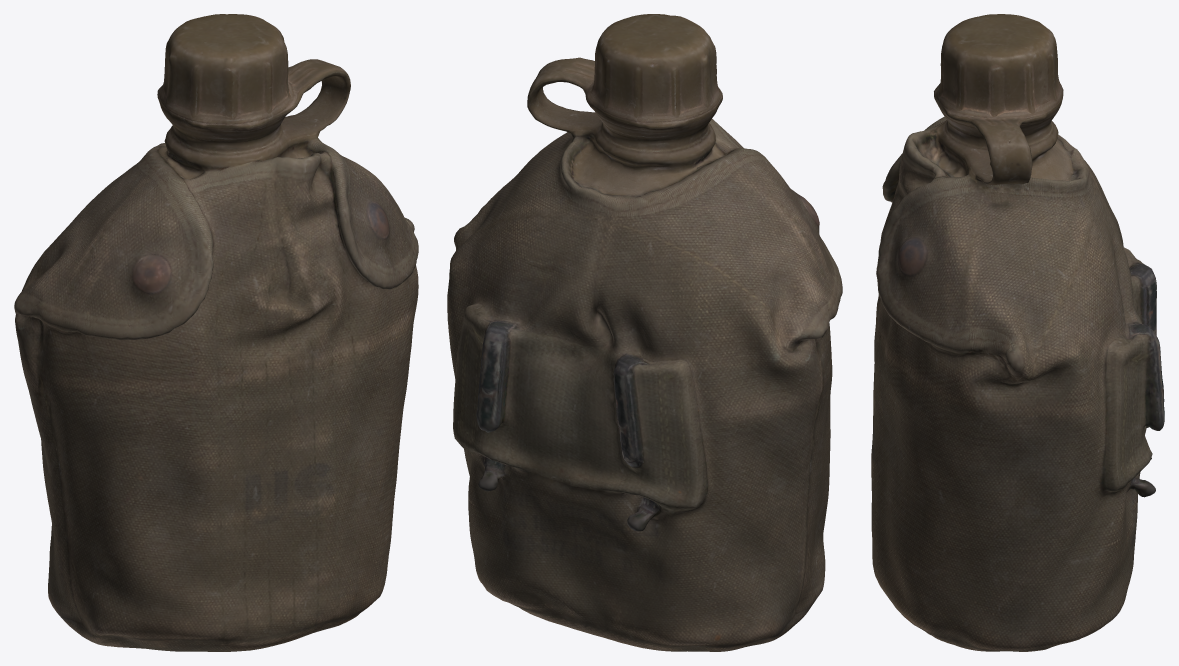
File: vietnam_war_bottle.glb
3 renders of one model, left to right at view 1: azimuth 30°, elevation 25°; view 2: azimuth 150°, elevation 25°; view 3: azimuth 270°, elevation 25°, orthographic. The views are drawn at different scales.
Visible parts, largest first — view 1: Object_2; view 2: Object_2; view 3: Object_2.
Part boxes in pixels (bbox=[...]): Object_2: bbox=[14, 14, 418, 651]; Object_2: bbox=[447, 14, 842, 651]; Object_2: bbox=[871, 14, 1164, 651].
Size of the model in its own units: 0.247 by 0.3573 by 0.1684.
1 material, 1 textured.
